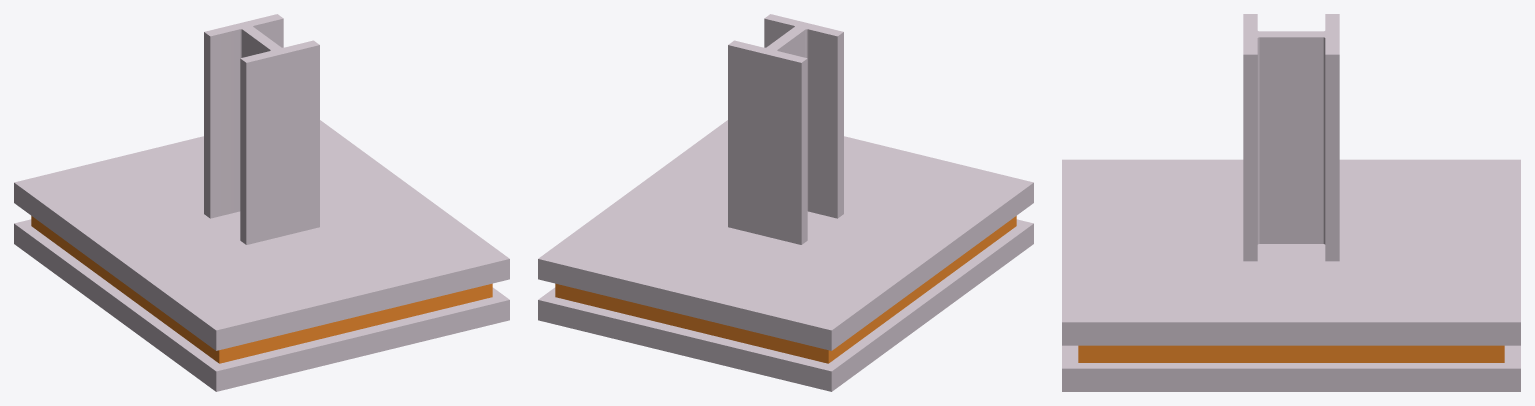
File: Presse.FBX
3 views of the same model, side by side, from view 1: azimuth 30°, elevation 25°; view 2: azimuth 150°, elevation 25°; view 3: azimuth 270°, elevation 25° (orthographic). The views are drawn at different scales.
Visible parts, largest first — view 1: Presse; view 2: Presse; view 3: Presse.
Part boxes in pixels (x1=…): Presse: x1=14, y1=14, x2=509, y2=391; Presse: x1=538, y1=14, x2=1033, y2=391; Presse: x1=1062, y1=14, x2=1520, y2=391.
Bounding box in the file's own units: 2 × 1.59 × 2.39.
